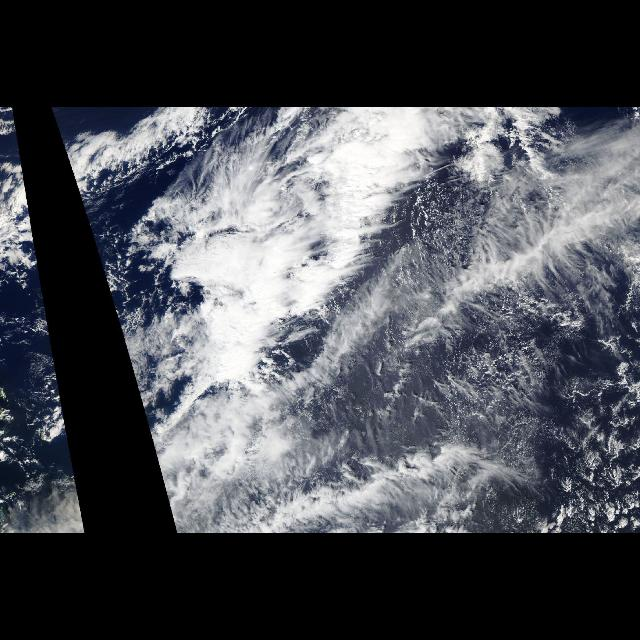Sugar: (537, 338, 639, 534)
